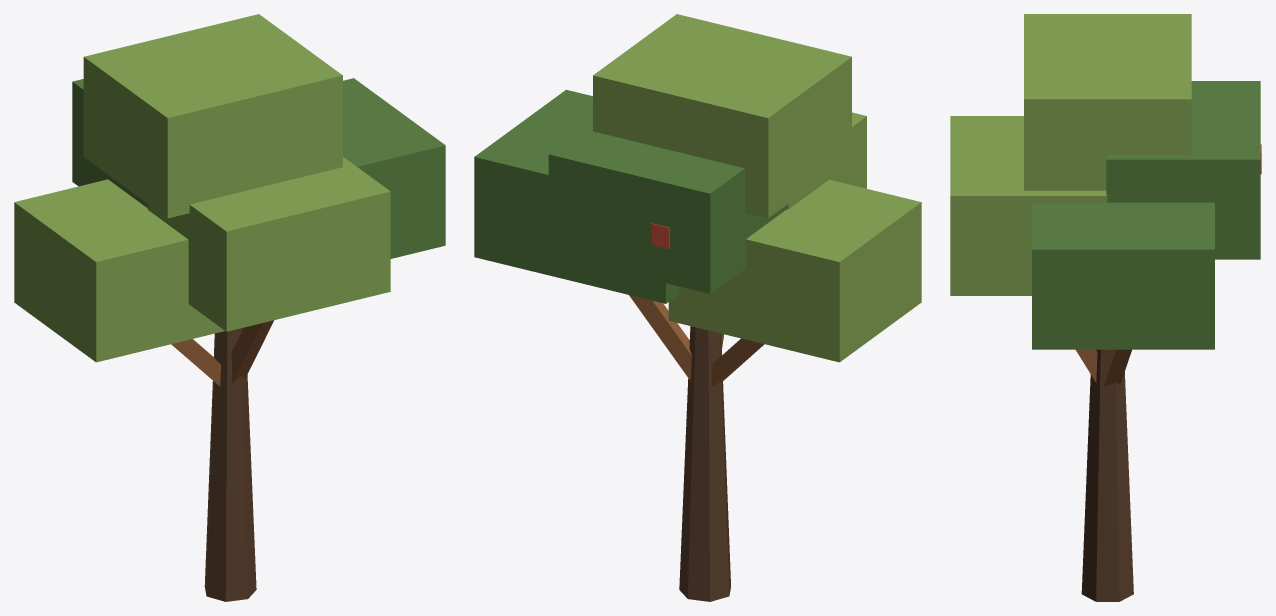
Rendered from orchard_tree.glb.
3 views of the same model, side by side, from view 1: azimuth 30°, elevation 25°; view 2: azimuth 150°, elevation 25°; view 3: azimuth 270°, elevation 25° (orthographic).
Parts seen in each view (by area): view 1: body__leaf2.001, body__leaf, body__wood_dark.001, body__wood.001; view 2: body__leaf2.001, body__leaf, body__wood_dark.001, body__wood.001; view 3: body__leaf, body__leaf2.001, body__wood_dark.001, body__wood.001.
Boxes of the visible parts, bbox=[...] form: body__leaf2.001: bbox=[14, 14, 390, 362]; body__leaf: bbox=[72, 78, 445, 258]; body__wood_dark.001: bbox=[204, 327, 256, 601]; body__wood.001: bbox=[171, 320, 273, 386]; body__leaf2.001: bbox=[593, 14, 921, 362]; body__leaf: bbox=[474, 89, 786, 303]; body__wood_dark.001: bbox=[679, 326, 730, 601]; body__wood.001: bbox=[629, 295, 764, 386]; body__leaf: bbox=[1032, 81, 1260, 349]; body__leaf2.001: bbox=[950, 14, 1191, 295]; body__wood_dark.001: bbox=[1081, 349, 1133, 601]; body__wood.001: bbox=[1076, 349, 1131, 386].
Size of the model in its own units: 2.57 by 3.69 by 1.97.
